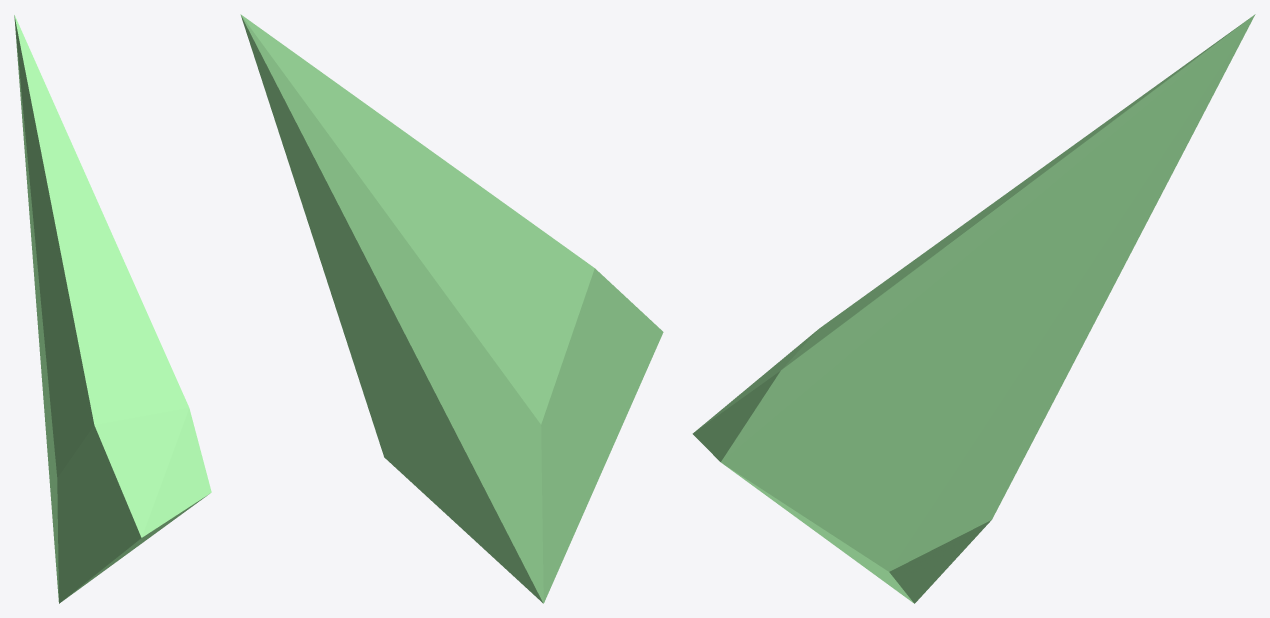
The model's file is linkhou_LR4_R560_link7_respondable_coll_15.dae.
The picture shows the model from 3 angles, left to right: view 1: azimuth 30°, elevation 25°; view 2: azimuth 150°, elevation 25°; view 3: azimuth 270°, elevation 25°; orthographic projection. The views are drawn at different scales.
Visible parts, largest first — view 1: Node_00000209DB3AB0A0; view 2: Node_00000209DB3AB0A0; view 3: Node_00000209DB3AB0A0.
Part boxes in pixels (x1=…): Node_00000209DB3AB0A0: x1=14, y1=15, x2=211, y2=603; Node_00000209DB3AB0A0: x1=240, y1=14, x2=663, y2=603; Node_00000209DB3AB0A0: x1=692, y1=14, x2=1255, y2=603.
Size of the model in its own units: 0.00303 by 0.0169 by 0.0134.
